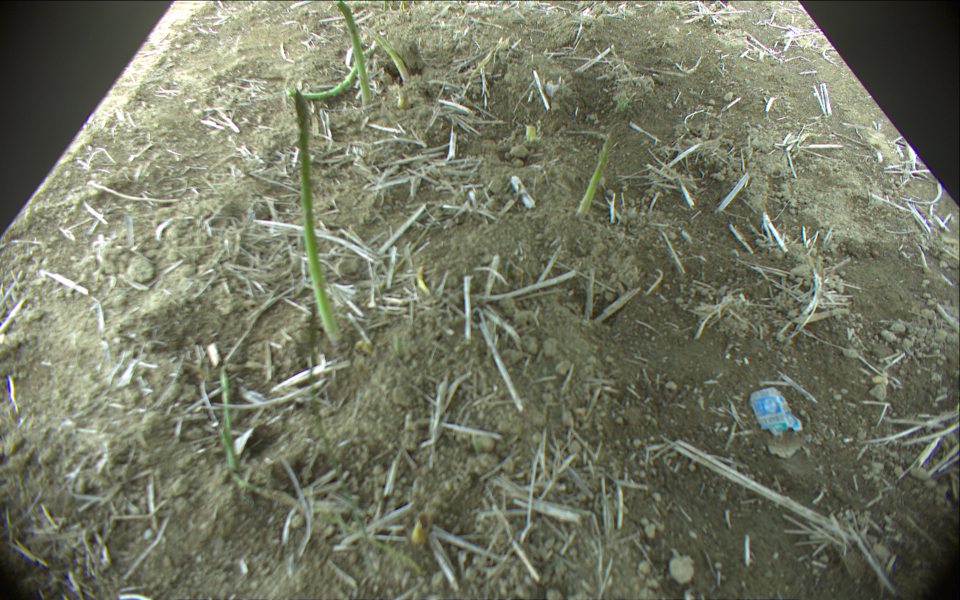aspa: (292, 92, 344, 345), (337, 1, 373, 105), (570, 133, 613, 217), (218, 366, 244, 473), (370, 26, 412, 87), (297, 58, 359, 98)
